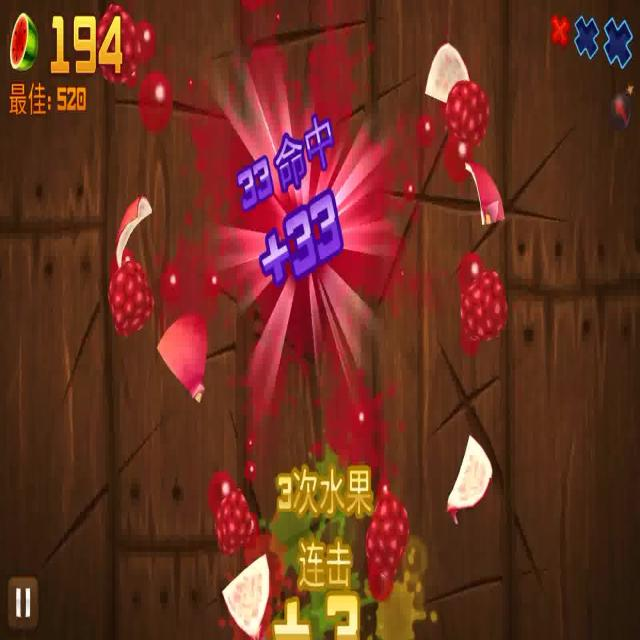fruit: (367, 488, 410, 611), (462, 254, 507, 358)
